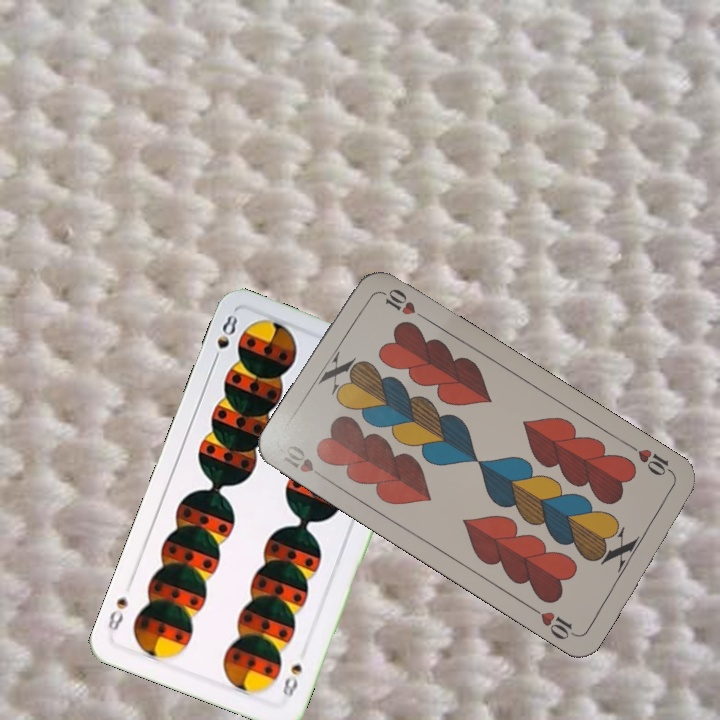H10: (277, 441, 331, 482), (625, 440, 678, 479)
S8: (208, 311, 241, 367), (277, 659, 305, 701)
